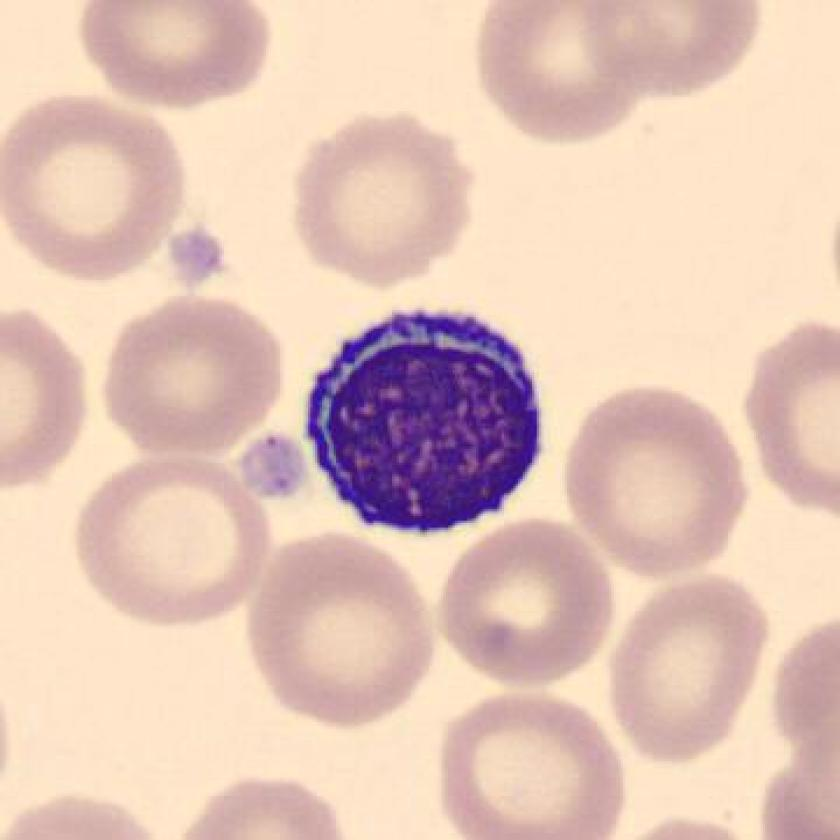lymphocyte: (291, 293, 564, 561)
